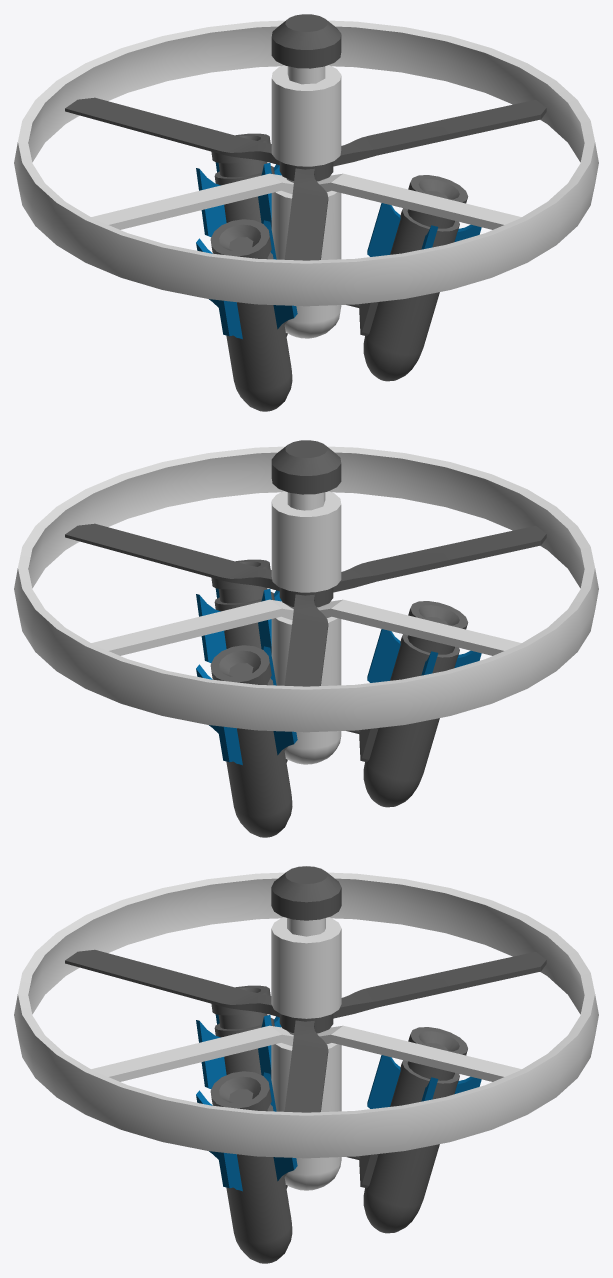
Rendered from EMP.fbx.
The picture shows the model from 3 angles, top to bottom: view 1: azimuth 30°, elevation 25°; view 2: azimuth 150°, elevation 25°; view 3: azimuth 270°, elevation 25°; orthographic projection.
Parts seen in each view (by area): view 1: EMP_Drone, EMP_Rotor; view 2: EMP_Drone, EMP_Rotor; view 3: EMP_Drone, EMP_Rotor.
Part boxes in pixels (x1,y1,x2,y2): EMP_Drone: (14,14,598,411); EMP_Rotor: (65,97,546,260); EMP_Drone: (14,440,598,837); EMP_Rotor: (65,523,546,686); EMP_Drone: (14,866,598,1263); EMP_Rotor: (65,949,546,1112).
Size of the model in its own units: 2.06 by 1.39 by 2.06.
